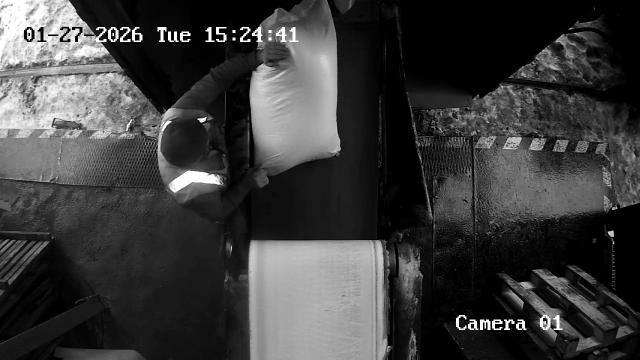bag: (250, 0, 341, 175)
